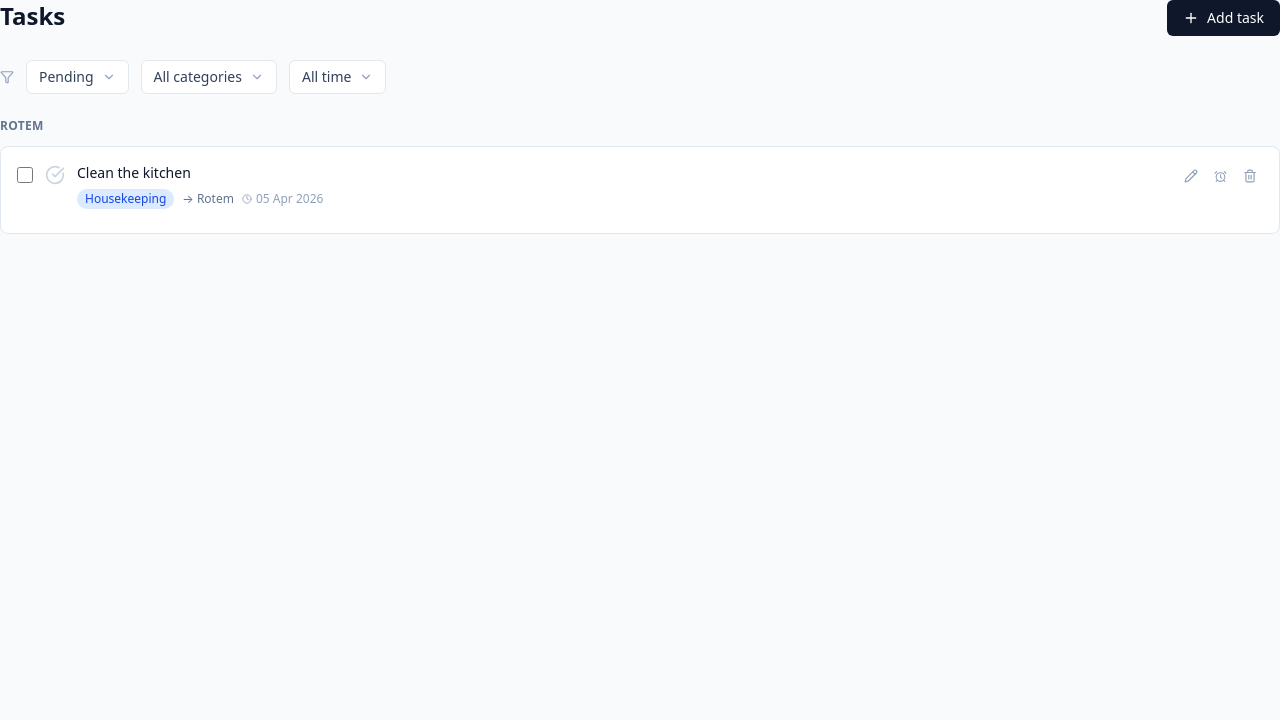
Scenario: Tasks › after task created, modal closes and list reloads
Click the button "Add task": (1224, 18) [1167,0,1279,36]
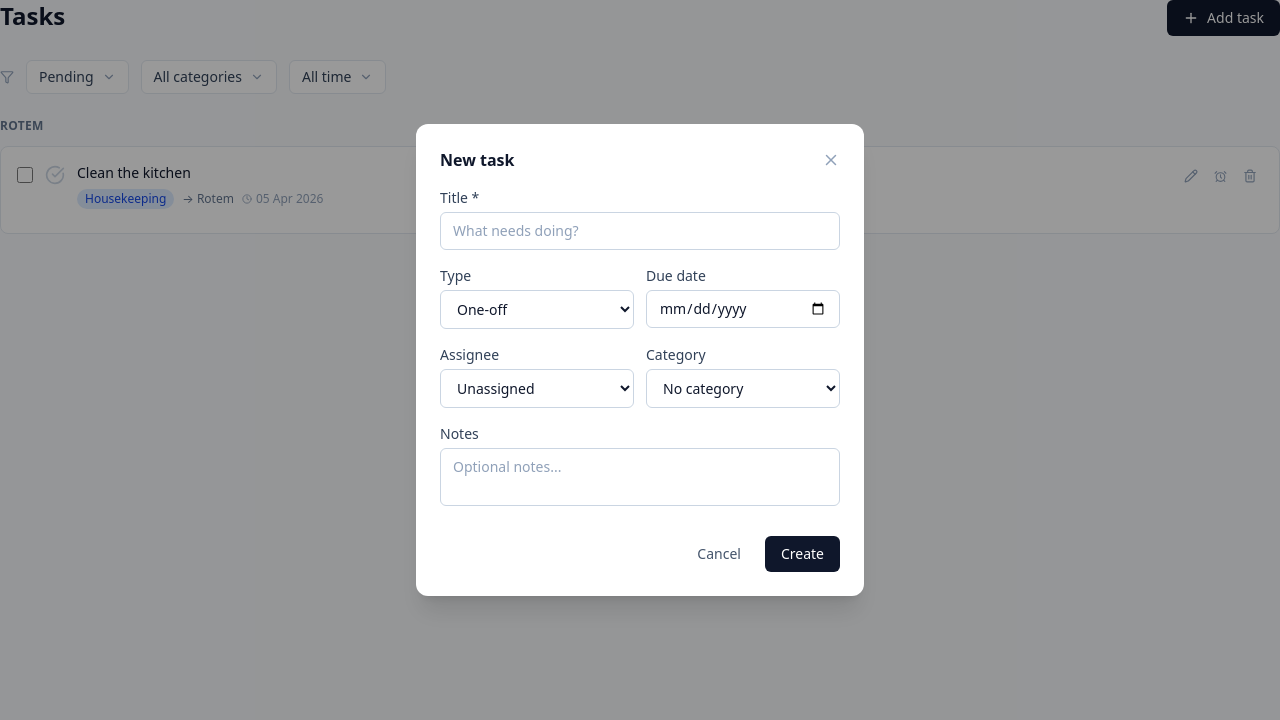
Now the dialog is shown
// Fill in and submit the form
In the field labelled "Title *": (640, 231) [440,212,840,250], type "New task"
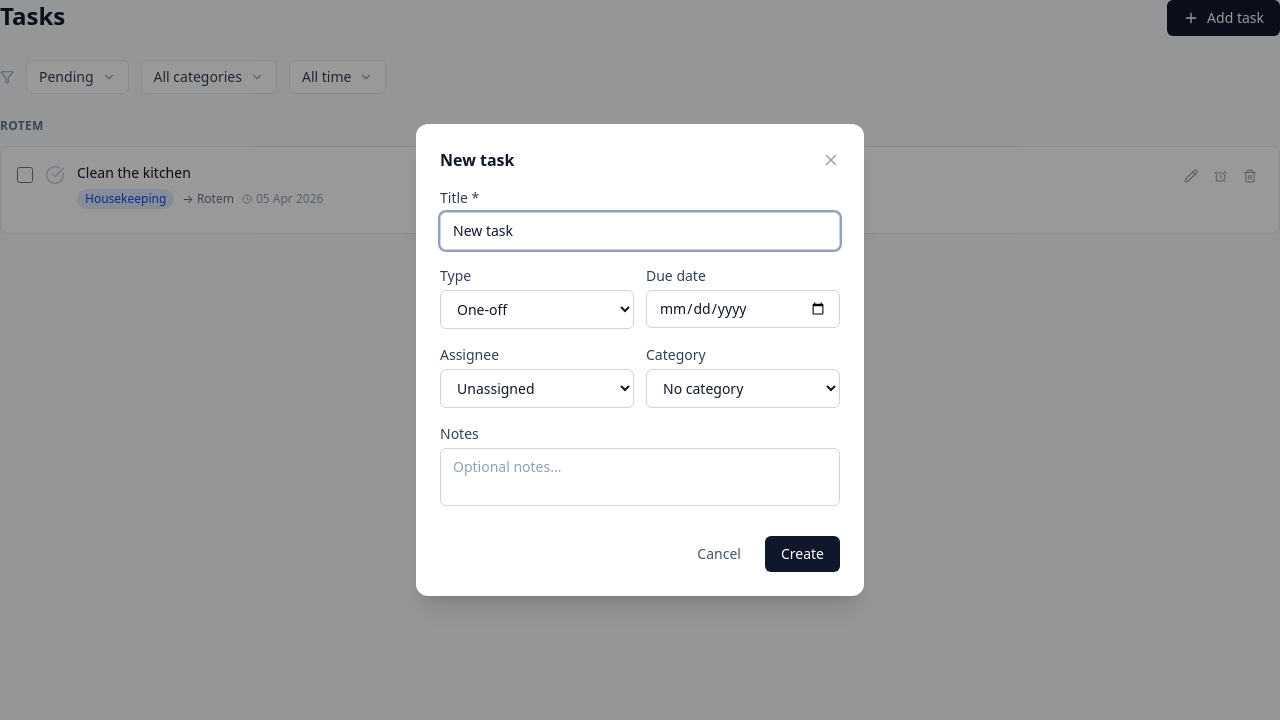
Click the button "Create": (802, 554) [765,536,840,572]
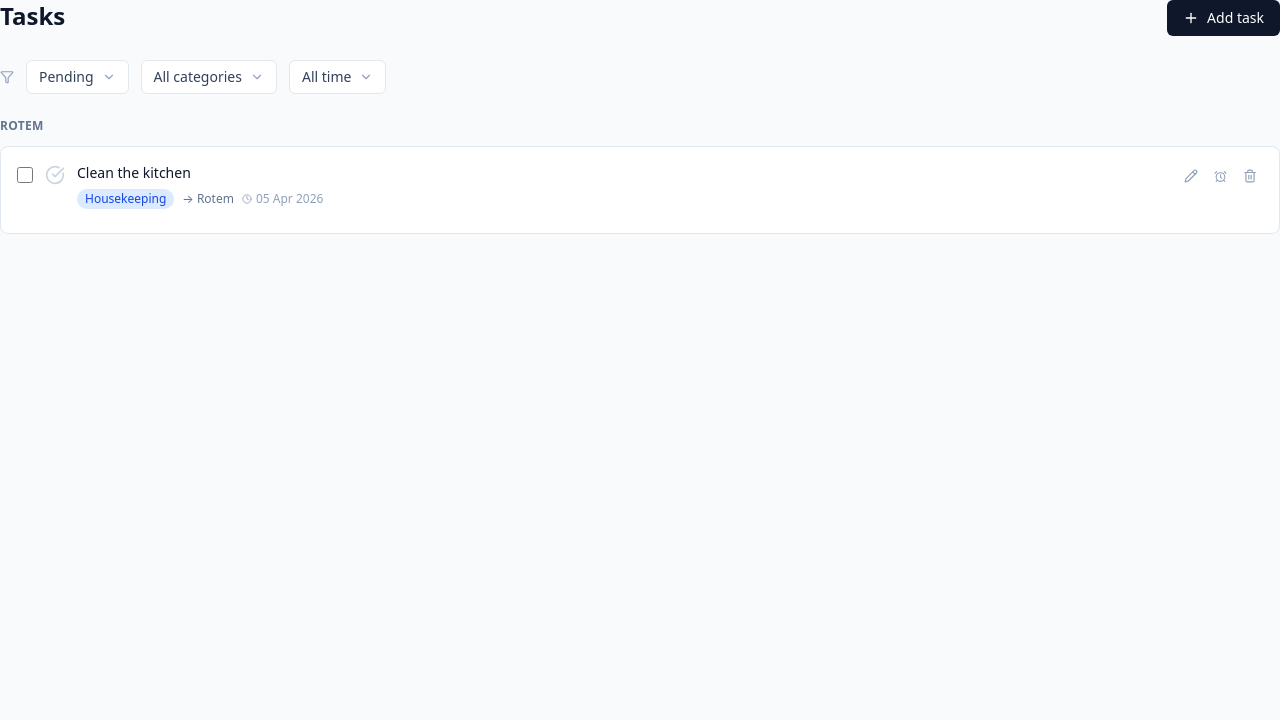
Now the dialog is gone
